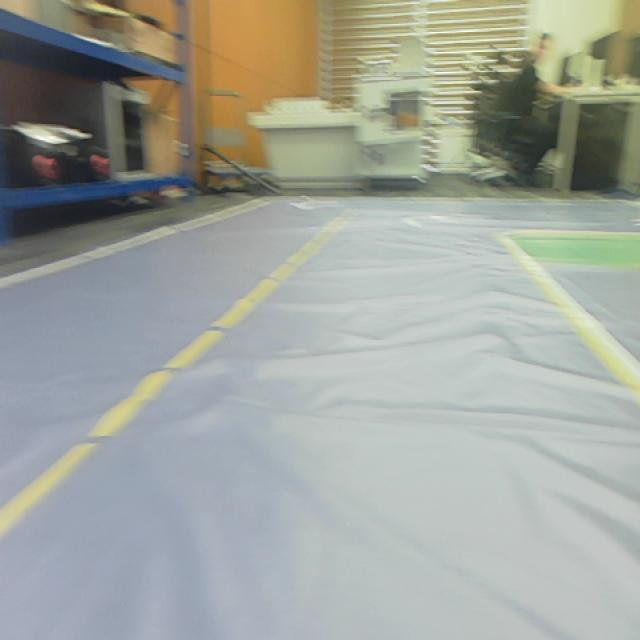left_lane: (0, 217, 347, 540)
right_lane: (497, 237, 640, 402)
